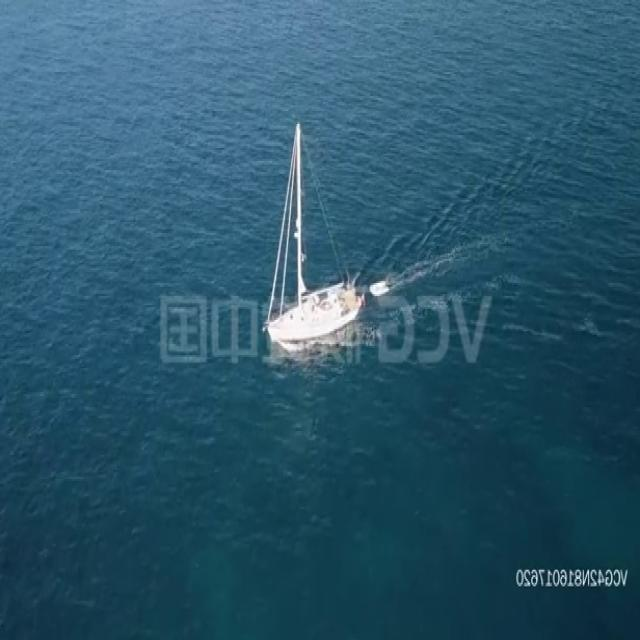houseboat: (370, 277, 388, 299)
sailboat: (262, 127, 362, 350)
